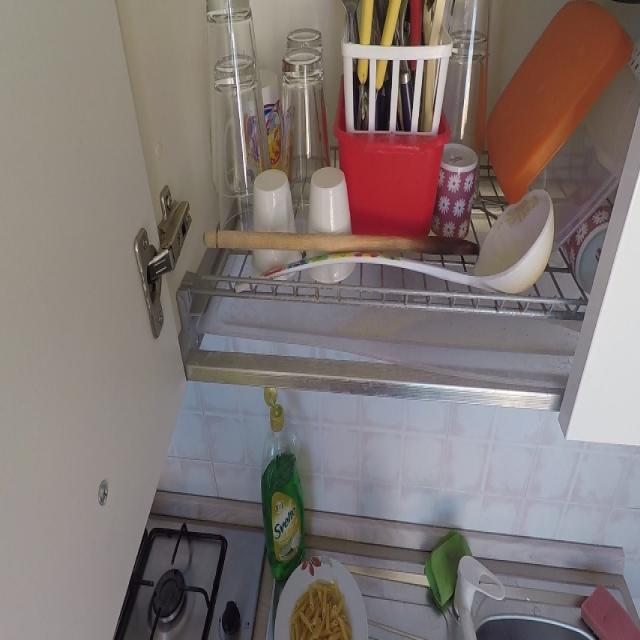dish soap: (256, 386, 309, 590)
glass: (213, 57, 272, 229), (279, 27, 326, 177)
hob: (133, 522, 219, 640)
tap: (452, 552, 507, 640)
